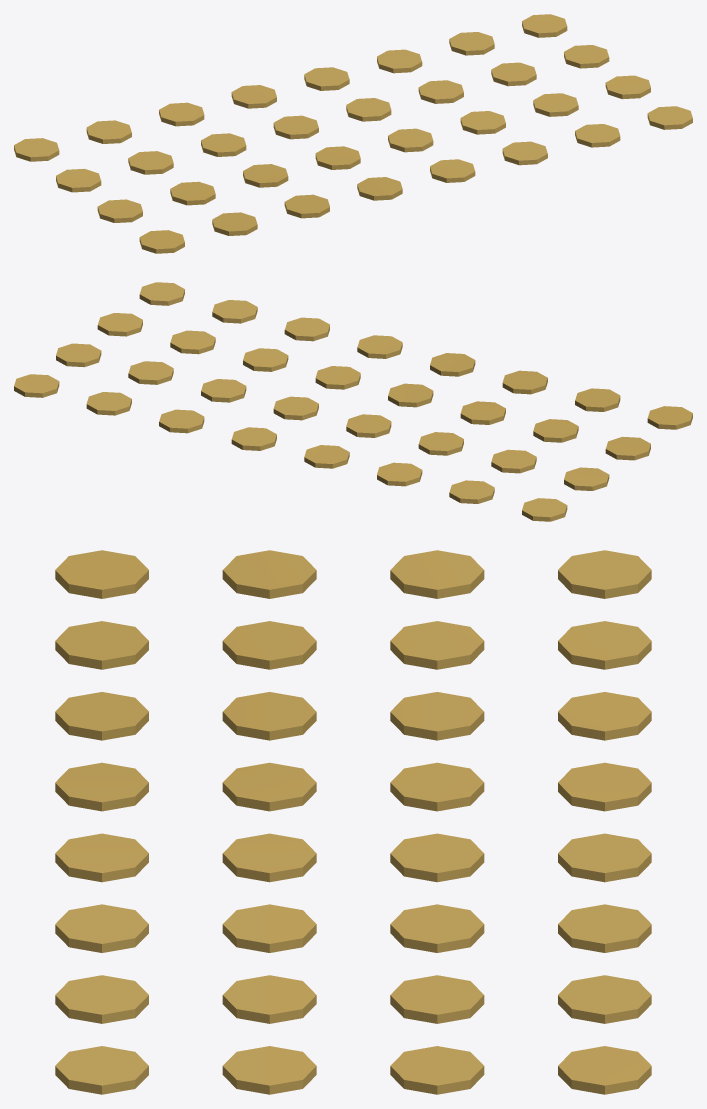
File: 348_L122_TP1_InspectionPads.obj
3 views of the same model, one above another, from view 1: azimuth 30°, elevation 25°; view 2: azimuth 150°, elevation 25°; view 3: azimuth 270°, elevation 25° (orthographic). The views are drawn at different scales.
Visible parts, largest first — view 1: 348_L122_TP1_InspectionPads; view 2: 348_L122_TP1_InspectionPads; view 3: 348_L122_TP1_InspectionPads.
Part boxes in pixels (x1=…): 348_L122_TP1_InspectionPads: x1=14, y1=14, x2=692, y2=253; 348_L122_TP1_InspectionPads: x1=14, y1=282, x2=692, y2=521; 348_L122_TP1_InspectionPads: x1=55, y1=550, x2=651, y2=1094.
Bounding box in the file's own units: 0.0378 × 0.0003 × 0.0178.
1 material, 1 textured.
